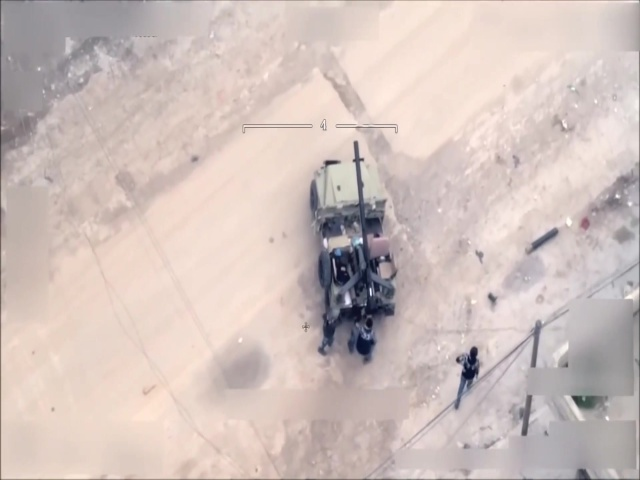person: (451, 345, 481, 411), (347, 317, 380, 368), (314, 307, 341, 356)
vehicle: (308, 156, 401, 317)
